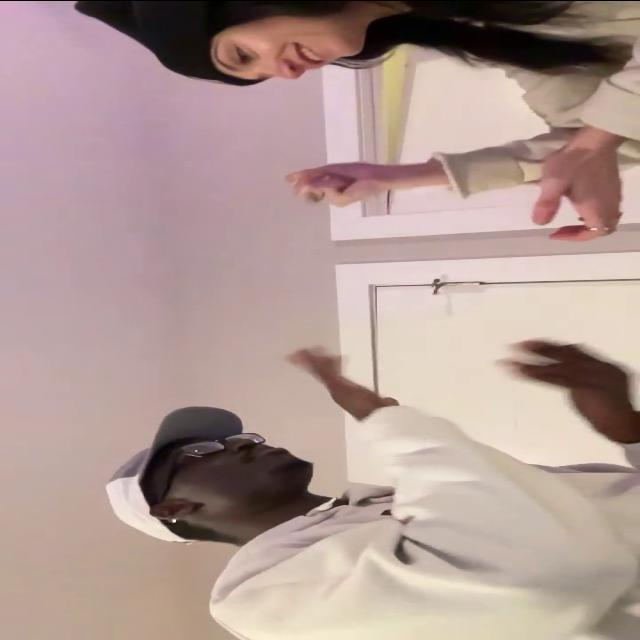Paper: (288, 344, 396, 412)
Rock: (280, 161, 379, 207)
